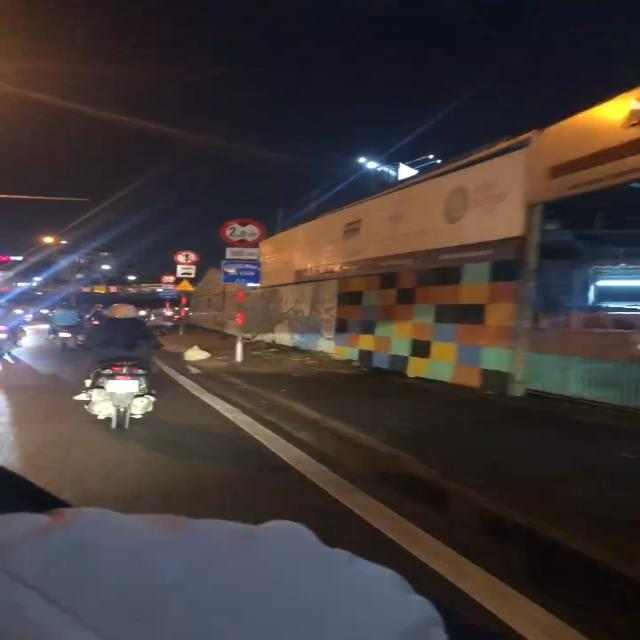Bien bao cam di thang: (170, 248, 204, 266)
Bien bao han che chieu cao: (215, 218, 268, 247)
